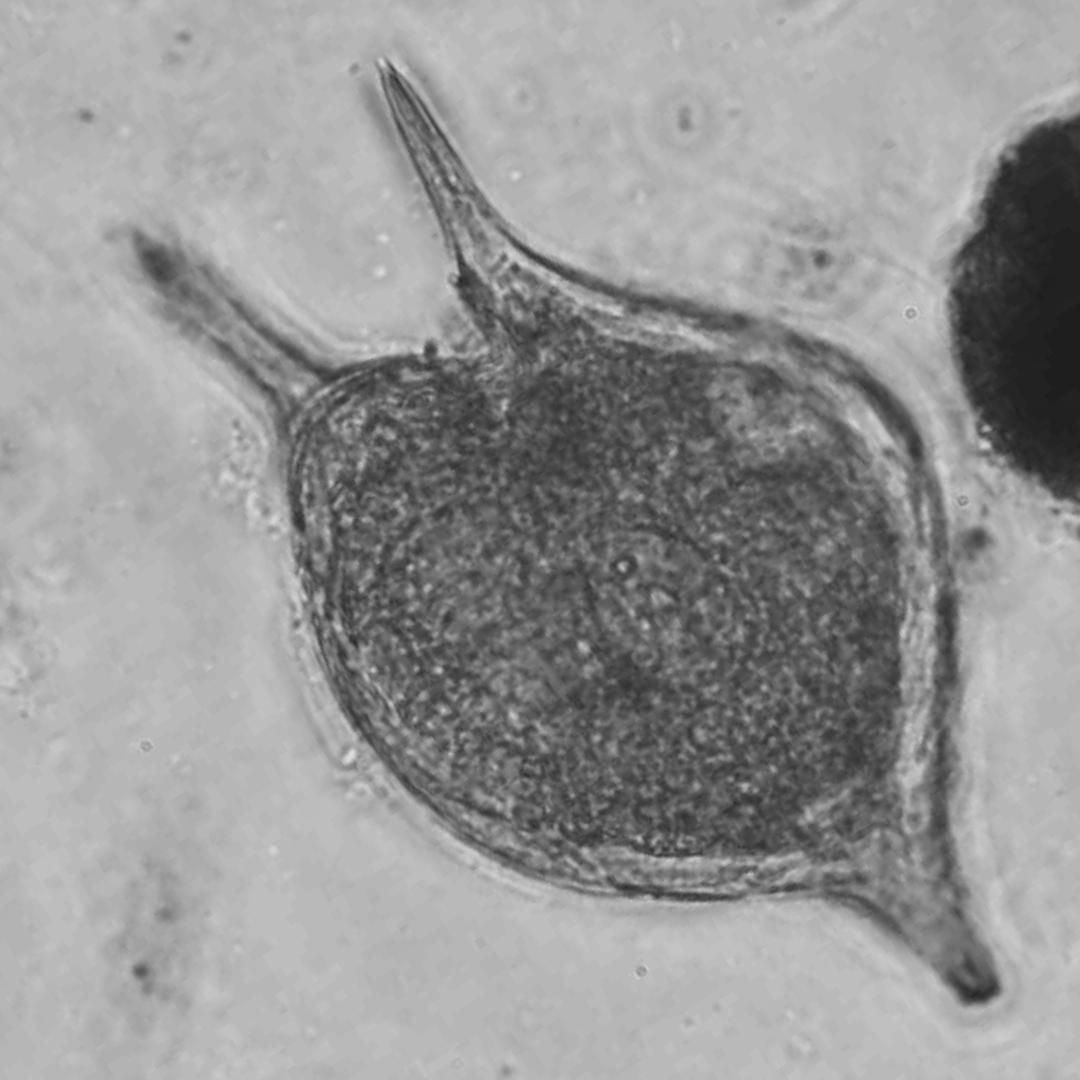protoperidinium_oceanicum: (132, 56, 998, 998)
